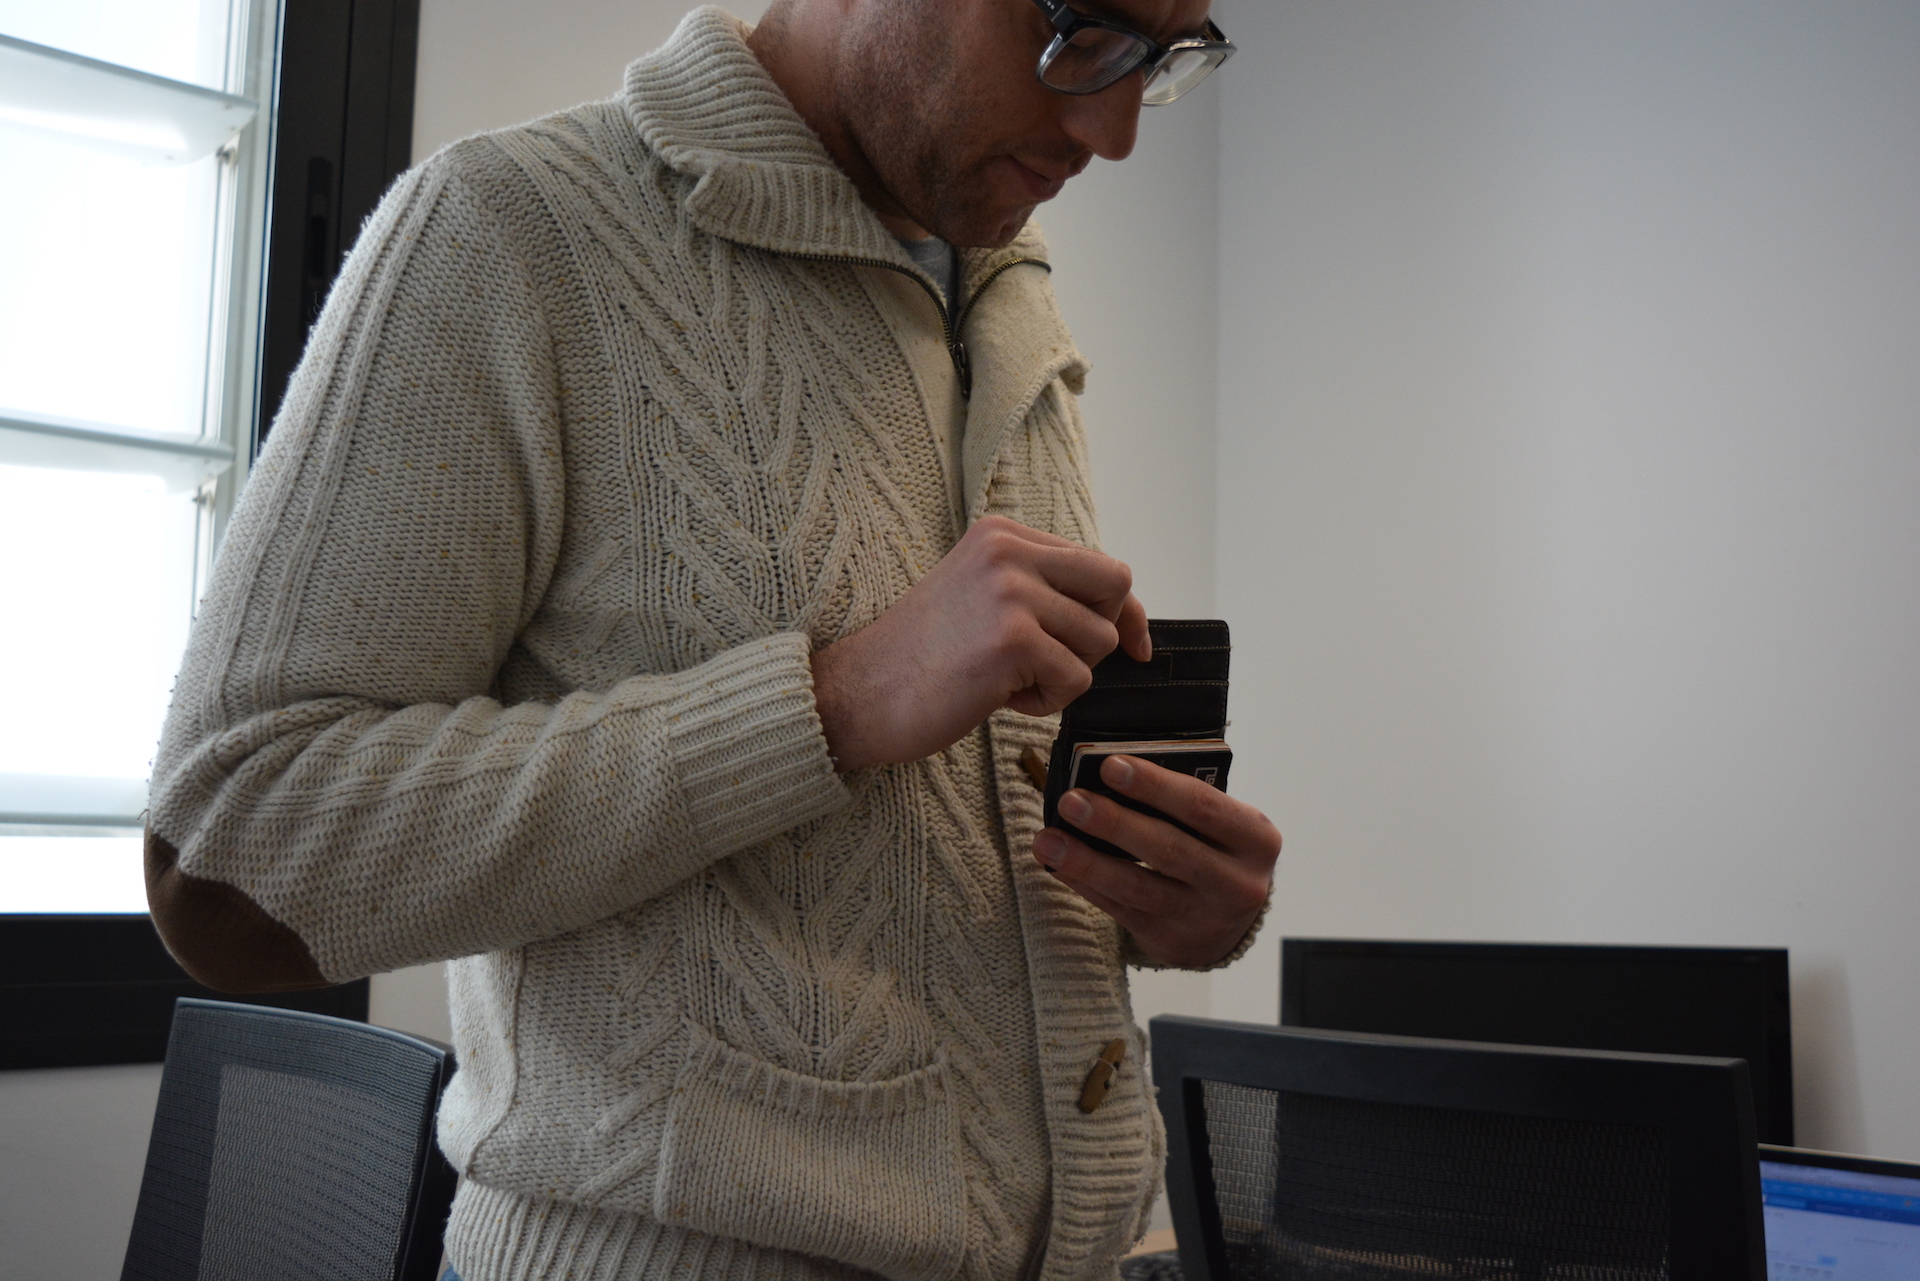monedero: (1041, 618, 1235, 875)
